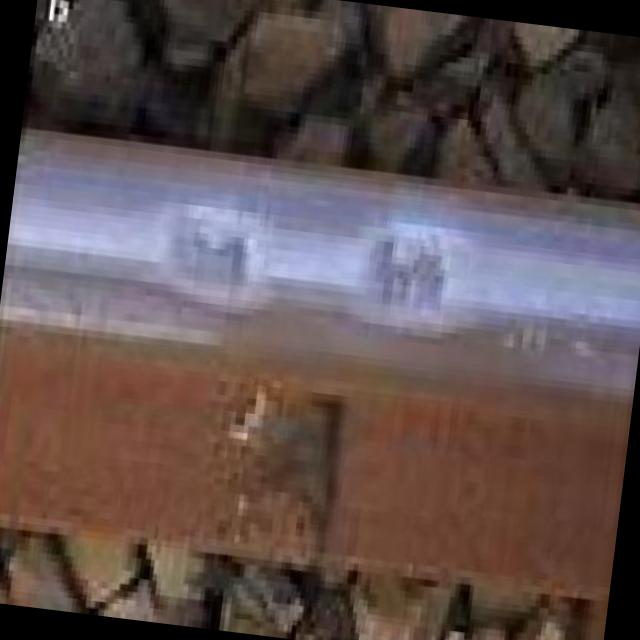defective: (0, 92, 640, 625)
